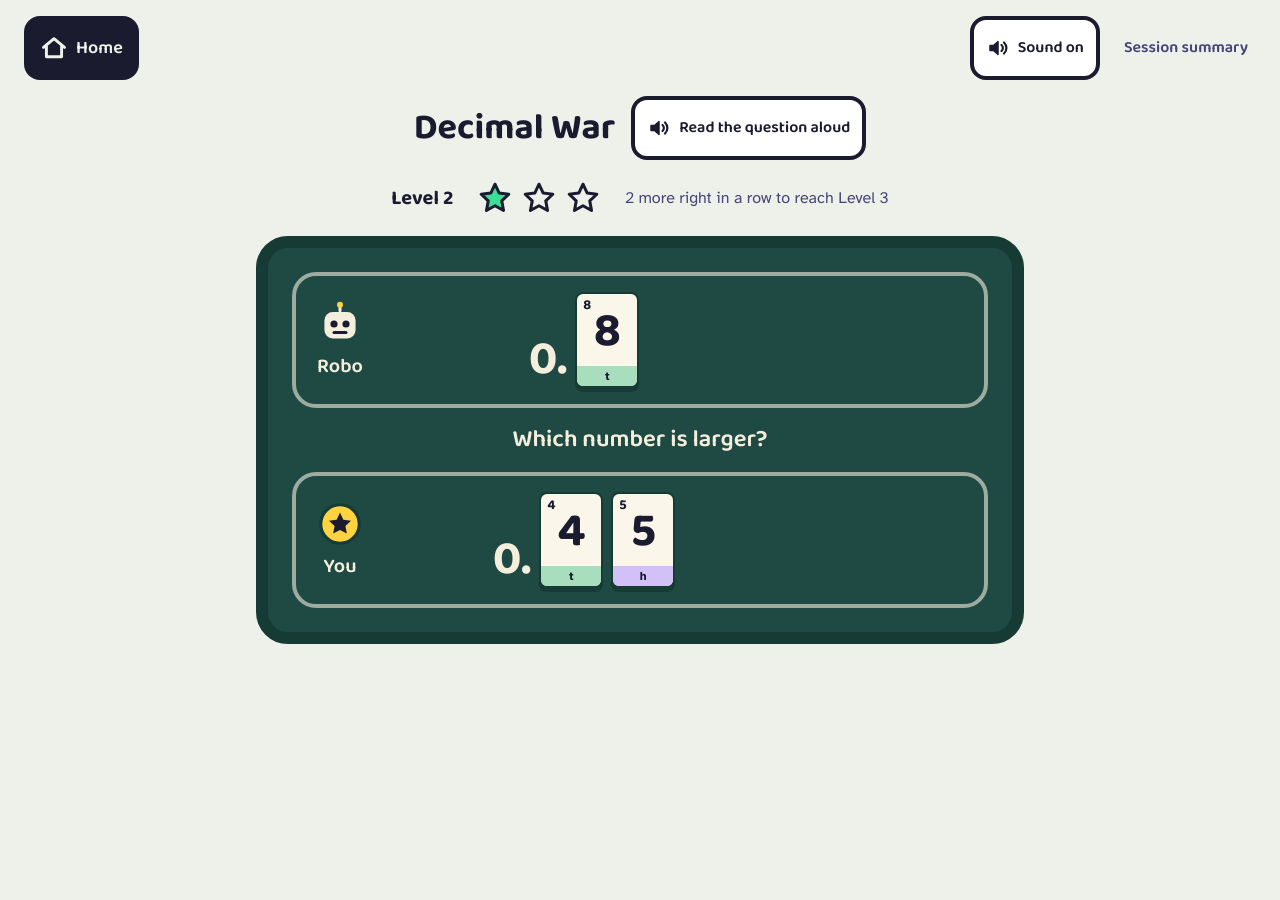
Test: Show me why shows the hint, a read-aloud button and the diagnosed pattern
The width and height of the screenshot is (1280, 900).
Click the button with aria-label "Your number, 0.45". click: click(640, 540)
box: [292,472,988,608]
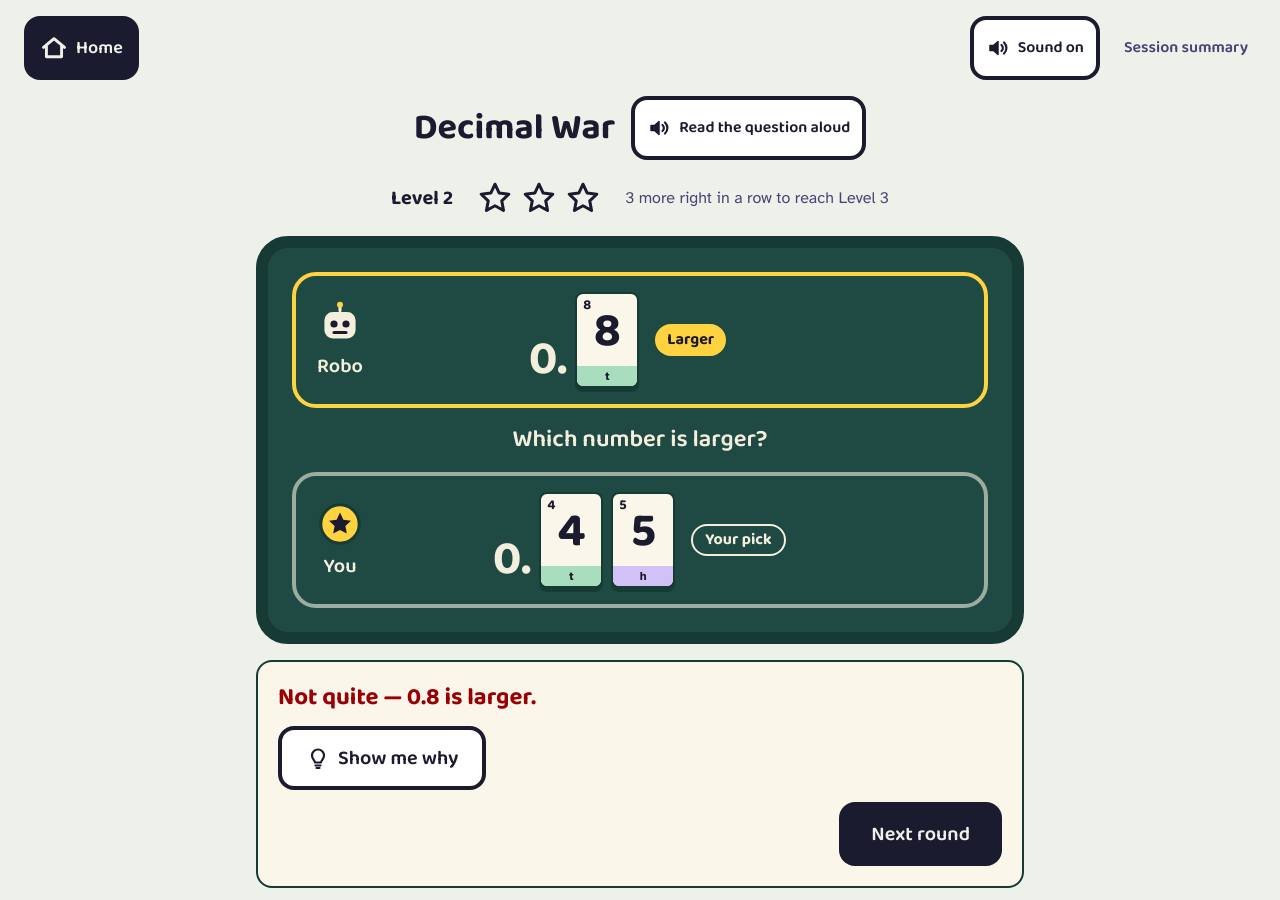
Click the button "Show me why". click: click(382, 758)
box: [278,726,486,790]
(page scrolled)
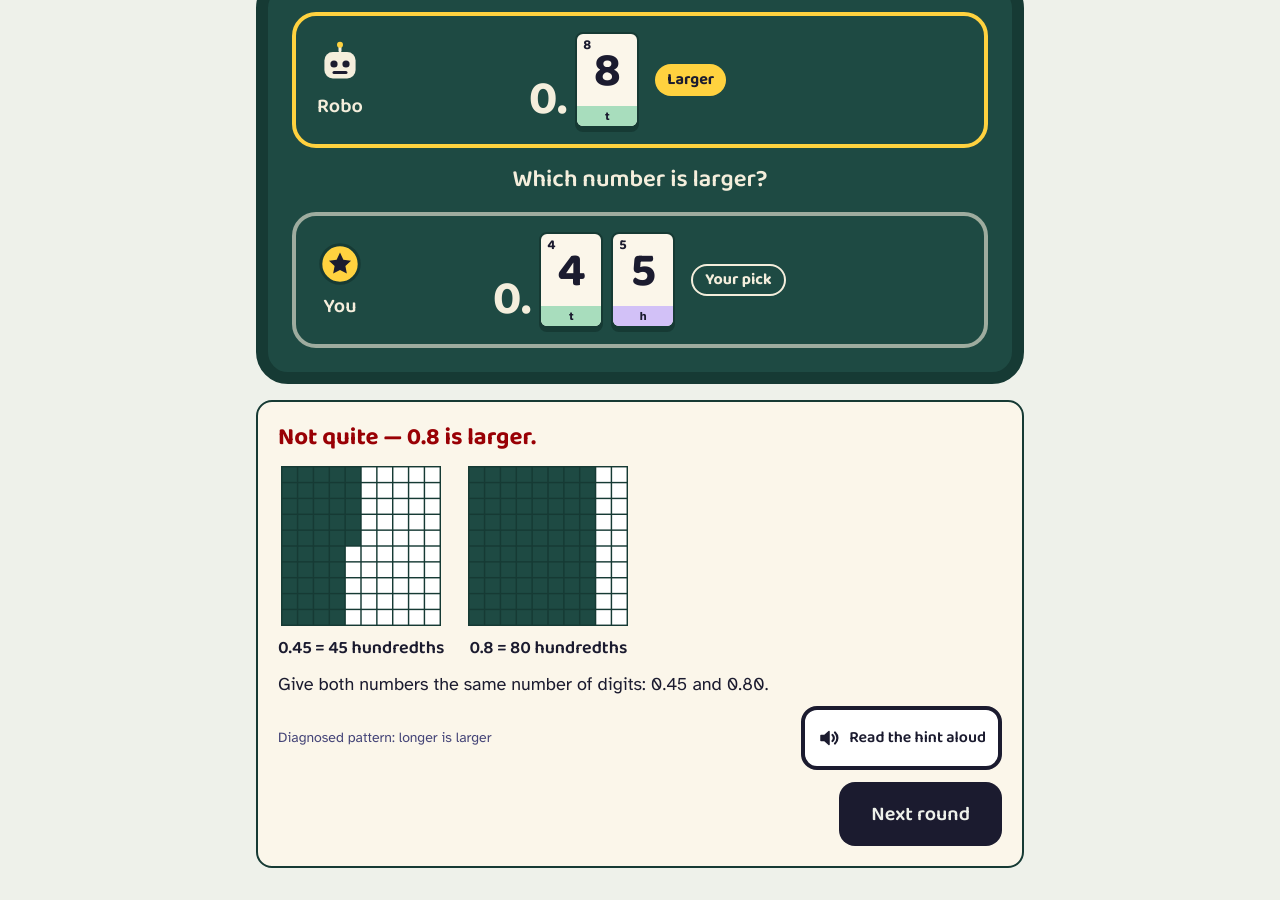
Result: the text "Give both numbers the same number of digits: 0.45 and 0.80." is shown at [278,670,768,698]
Result: the picture named "0.45 shaded: 45 of 100 squares" is shown at [281,466,441,626]
Result: the picture named "0.8 shaded: 80 of 100 squares" is shown at [468,466,628,626]
